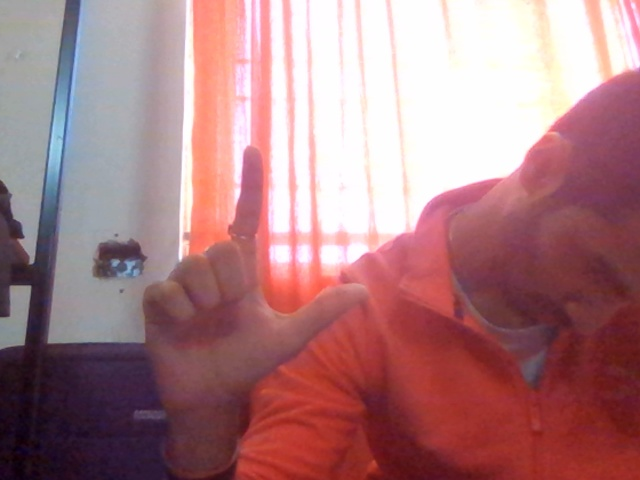L: (116, 139, 385, 480)
